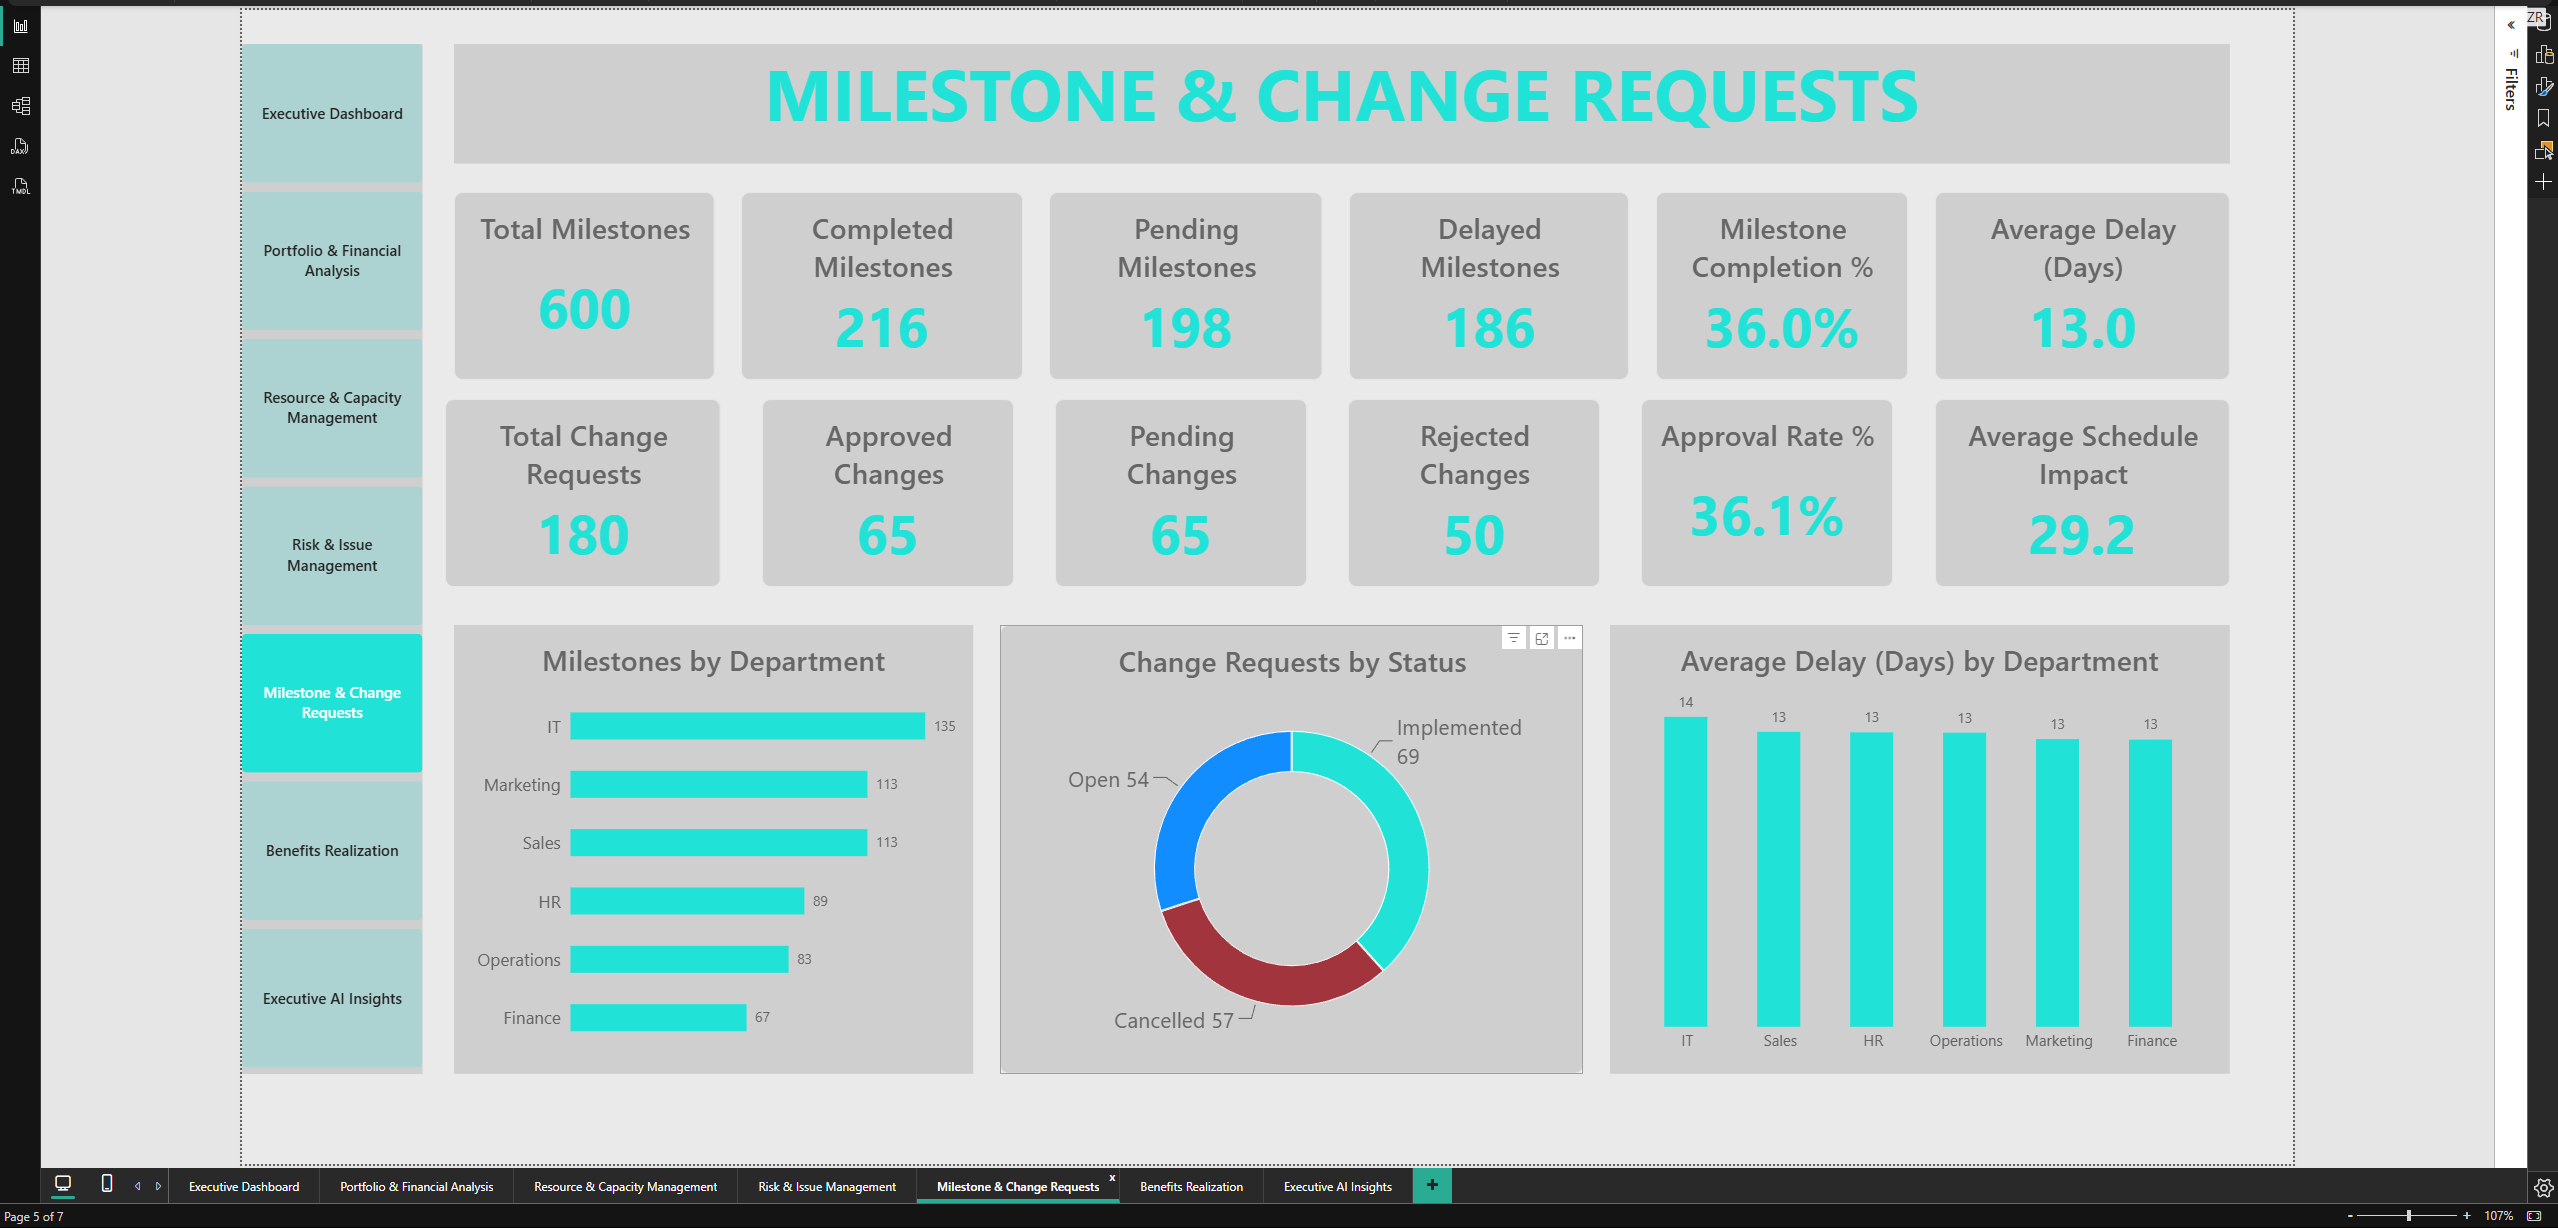

What the dashboard file says about the page in this screenshot:
{"tool":"powerbi","page":{"name":"Milestone & Change Requests","canvas":[1920,1080],"ordinal":4},"visuals":[{"type":"card","title":"Total Milestones","fields":{"Values":["Measure Table.Total Milestones"]},"box":[198,170,244,176],"z":0},{"type":"card","title":"Delayed Milestones","fields":{"Values":["Measure Table.Delayed Milestones"]},"box":[1036.4,170,262,176],"z":1000},{"type":"card","title":"Rejected Changes","fields":{"Values":["Measure Table.Rejected Changes"]},"box":[1035.2,364,236,176],"z":2000},{"type":"textbox","title":"MILESTONE & CHANGE REQUESTS","box":[198,32,1662,112],"z":3000},{"type":"clusteredBarChart","title":"Milestones by Department","fields":{"Category":["pmo projects.department"],"Y":["Measure Table.Total Milestones"]},"box":[198,576,486,420],"z":4000},{"type":"donutChart","title":"Change Requests by Status","fields":{"Category":["pmo change_requests.status"],"Y":["Measure Table.Total Change Requests"]},"box":[709,576,546,420],"z":5000},{"type":"clusteredColumnChart","title":"Average Delay (Days) by Department","fields":{"Category":["pmo projects.department"],"Y":["Measure Table.Average Delay (Days)"]},"box":[1280,576,580,420],"z":6000},{"type":"card","title":"Pending Milestones","fields":{"Values":["Measure Table.Pending Milestones"]},"box":[755.6,170,256,176],"z":7000},{"type":"card","title":"Total Change Requests","fields":{"Values":["Measure Table.Total Change Requests"]},"box":[190,364,258,176],"z":8000},{"type":"card","title":"Completed Milestones","fields":{"Values":["Measure Table.Completed Milestones"]},"box":[466.8,170,264,176],"z":9000},{"type":"card","title":"Approved Changes","fields":{"Values":["Measure Table.Approved Changes"]},"box":[486.4,364,236,176],"z":10000},{"type":"card","title":"Pending Changes","fields":{"Values":["Measure Table.Pending Changes"]},"box":[760.8,364,236,176],"z":11000},{"type":"card","title":"Average Delay (Days)","fields":{"Values":["Measure Table.Average Delay (Days)"]},"box":[1584,170,276,176],"z":12000},{"type":"card","title":"Milestone Completion %","fields":{"Values":["Measure Table.Milestone Completion %"]},"box":[1323.2,170,236,176],"z":13000},{"type":"card","title":"Average Schedule Impact","fields":{"Values":["Measure Table.Average Schedule Impact"]},"box":[1584,364,276,176],"z":14000},{"type":"card","title":"Approval Rate %","fields":{"Values":["Measure Table.Approval Rate %"]},"box":[1309.6,364,236,176],"z":15000},{"type":"pageNavigator","box":[0,32,169,964],"z":16000}]}

Visuals, with their boxes on the page's 1920x1080 design canvas (x1, y1, x2, y2). These are canvas units, not pixel positions in the 2558x1228 screenshot, which may show the page scaled, cropped or inside an application window:
"Total Milestones" card: box=[198, 170, 442, 346]
"Delayed Milestones" card: box=[1036, 170, 1298, 346]
"Rejected Changes" card: box=[1035, 364, 1271, 540]
"MILESTONE & CHANGE REQUESTS" textbox: box=[198, 32, 1860, 144]
"Milestones by Department" clusteredBarChart: box=[198, 576, 684, 996]
"Change Requests by Status" donutChart: box=[709, 576, 1255, 996]
"Average Delay (Days) by Department" clusteredColumnChart: box=[1280, 576, 1860, 996]
"Pending Milestones" card: box=[756, 170, 1012, 346]
"Total Change Requests" card: box=[190, 364, 448, 540]
"Completed Milestones" card: box=[467, 170, 731, 346]
"Approved Changes" card: box=[486, 364, 722, 540]
"Pending Changes" card: box=[761, 364, 997, 540]
"Average Delay (Days)" card: box=[1584, 170, 1860, 346]
"Milestone Completion %" card: box=[1323, 170, 1559, 346]
"Average Schedule Impact" card: box=[1584, 364, 1860, 540]
"Approval Rate %" card: box=[1310, 364, 1546, 540]
pageNavigator: box=[0, 32, 169, 996]
